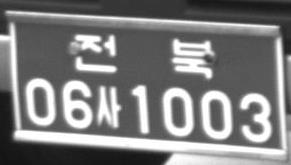0: (161, 86, 195, 136), (200, 89, 233, 140), (25, 76, 56, 126)
1: (128, 84, 156, 134)
3: (239, 91, 272, 143)
6: (62, 80, 93, 129)
사: (96, 85, 121, 128)
전북_D: (74, 32, 213, 79)
